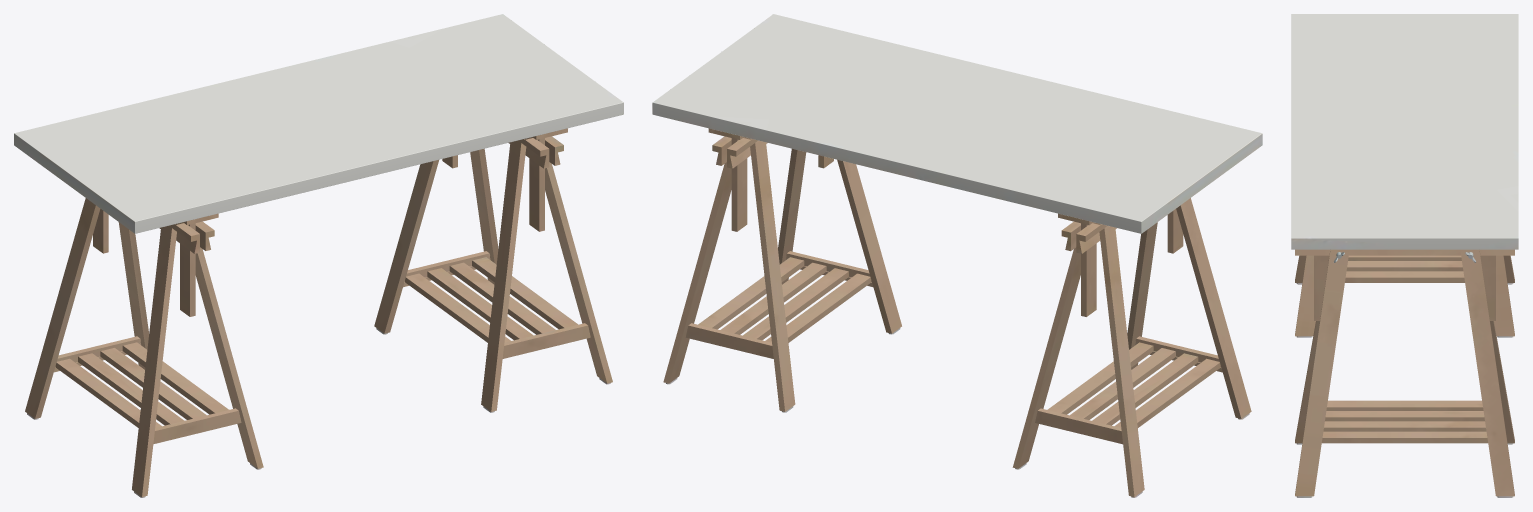
3 views of the same model, side by side, from view 1: azimuth 30°, elevation 25°; view 2: azimuth 150°, elevation 25°; view 3: azimuth 270°, elevation 25° (orthographic). The views are drawn at different scales.
Visible parts, largest first — view 1: Mesh_0; view 2: Mesh_0; view 3: Mesh_0.
Boxes of the visible parts, x1,y1,x2,y2 form: Mesh_0: [14, 14, 623, 497]; Mesh_0: [652, 14, 1262, 497]; Mesh_0: [1291, 14, 1518, 497].
Bounding box in the file's own units: 1.4 × 0.7682 × 0.6.
Materials: 1 (1 with a texture image).
